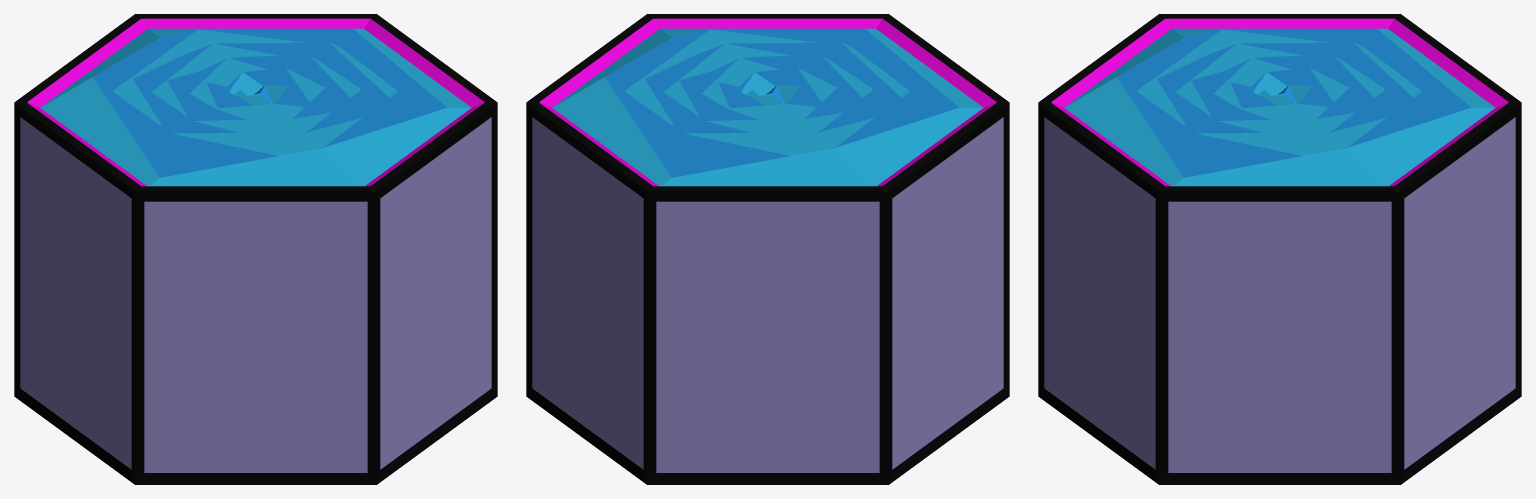
The model's file is WaterHex.fbx.
3 views of the same model, side by side, from view 1: azimuth 30°, elevation 25°; view 2: azimuth 150°, elevation 25°; view 3: azimuth 270°, elevation 25° (orthographic).
Visible parts, largest first — view 1: Circle; view 2: Circle; view 3: Circle.
Part boxes in pixels (x1,y1,x2,y2): Circle: (14, 14, 497, 484); Circle: (526, 14, 1009, 484); Circle: (1038, 14, 1521, 484).
Bounding box in the file's own units: 173 × 142 × 200.
